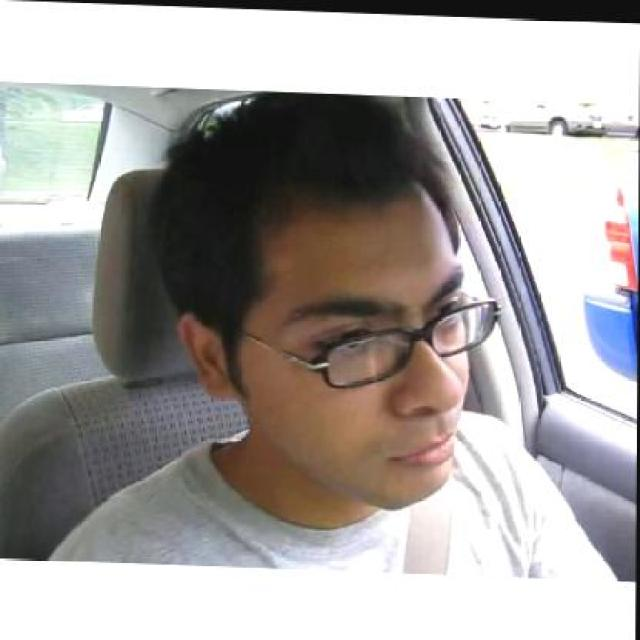attentif: (177, 88, 503, 514)
